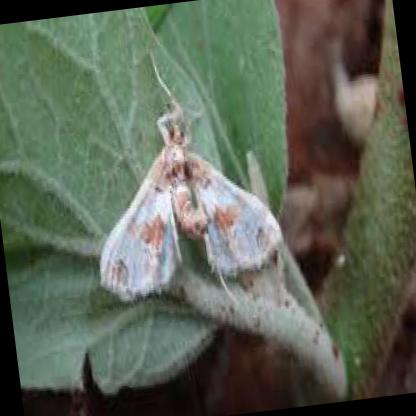leucinodes: (99, 60, 281, 299)
